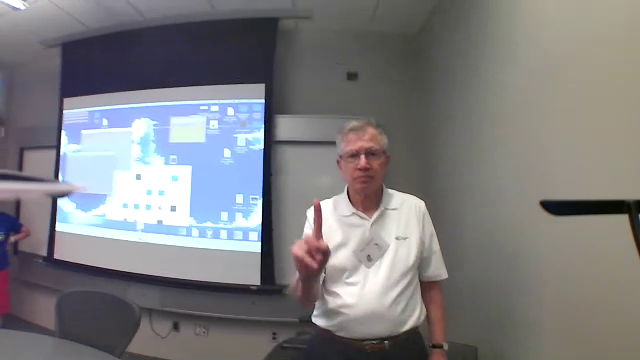up: (289, 198, 334, 279)
